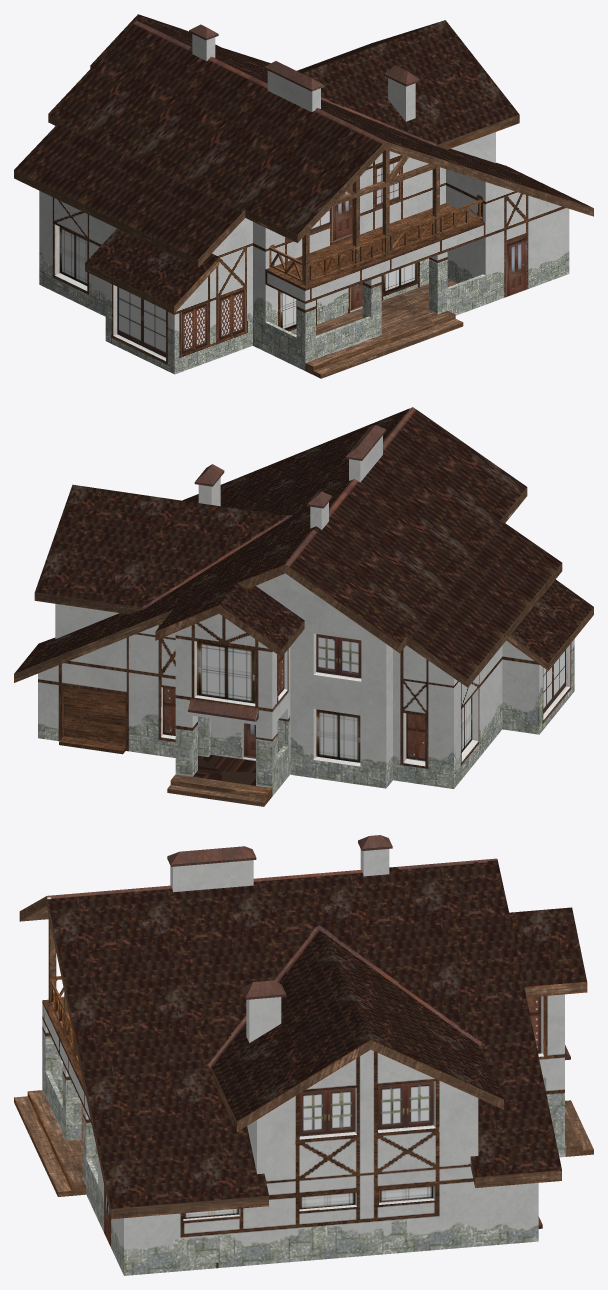
File: alpine_cabin.obj
3 renders of one model, top to bottom at view 1: azimuth 30°, elevation 25°; view 2: azimuth 150°, elevation 25°; view 3: azimuth 270°, elevation 25°, orthographic. The views are drawn at different scales.
Parts seen in each view (by area): view 1: Alpine_chalet_Cube; view 2: Alpine_chalet_Cube; view 3: Alpine_chalet_Cube.
Part boxes in pixels (box(x1,y1,x2,y2)): Alpine_chalet_Cube: box(14, 14, 593, 378); Alpine_chalet_Cube: box(14, 407, 593, 806); Alpine_chalet_Cube: box(14, 835, 593, 1275).
Size of the model in its own units: 10.67 by 5.34 by 9.82.
1 material, 1 textured.
